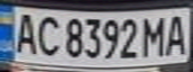2: (118, 15, 142, 60)
3: (81, 16, 103, 60)
8: (60, 15, 84, 58)
9: (100, 16, 121, 61)
A: (9, 10, 39, 55), (163, 11, 190, 56)
C: (33, 12, 63, 57)
M: (139, 12, 169, 59)
